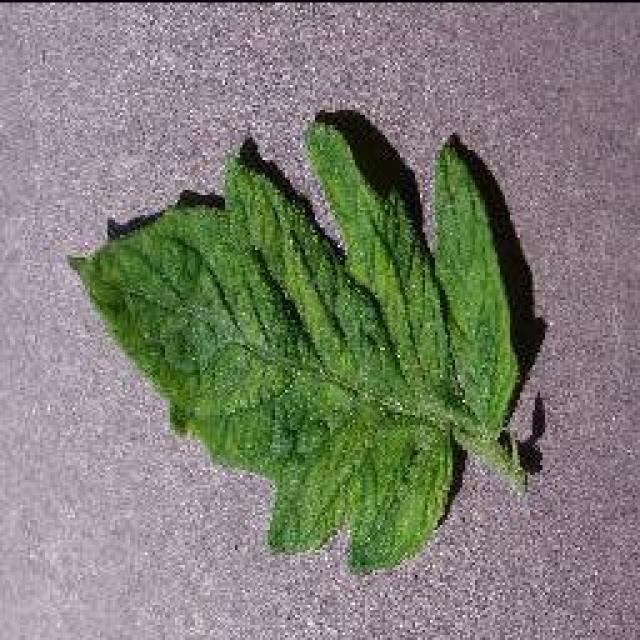Tomato___Tomato_mosaic_virus: (72, 122, 522, 568)
